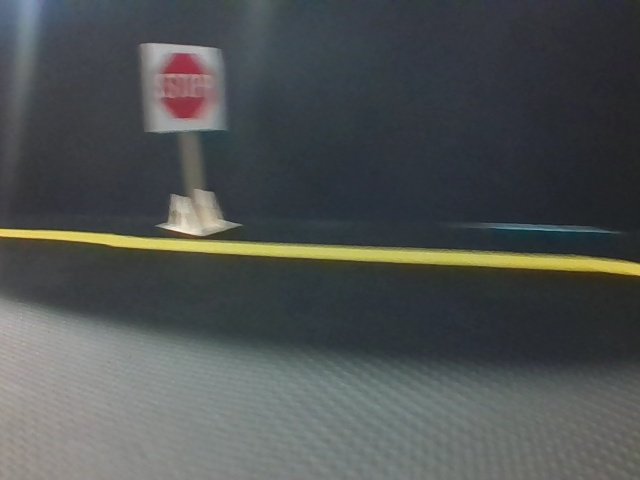stop: (144, 42, 221, 130)
